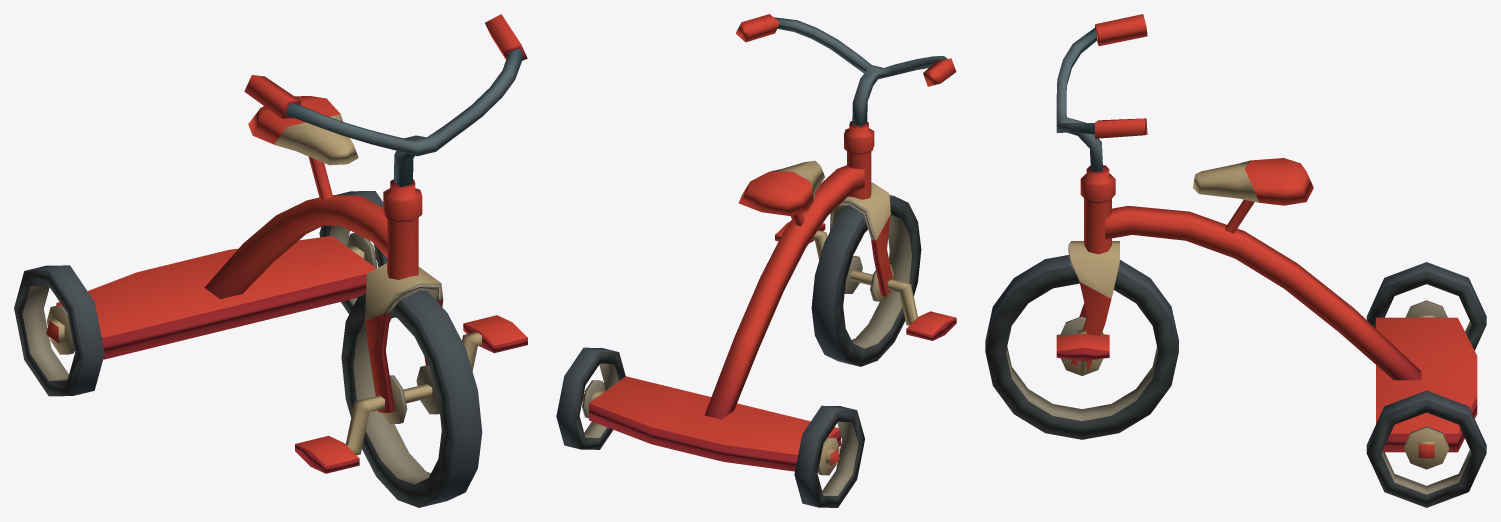
File: human-toys-tricycle_v1.glb
3 renders of one model, left to right at view 1: azimuth 30°, elevation 25°; view 2: azimuth 150°, elevation 25°; view 3: azimuth 270°, elevation 25°, orthographic. The views are drawn at different scales.
Parts seen in each view (by area): view 1: Tricycle; view 2: Tricycle; view 3: Tricycle.
Boxes of the visible parts, x1=… form: Tricycle: x1=14, y1=14, x2=527, y2=507; Tricycle: x1=556, y1=14, x2=956, y2=507; Tricycle: x1=985, y1=14, x2=1486, y2=507.
Size of the model in its own units: 0.4621 by 0.5747 by 0.7.
